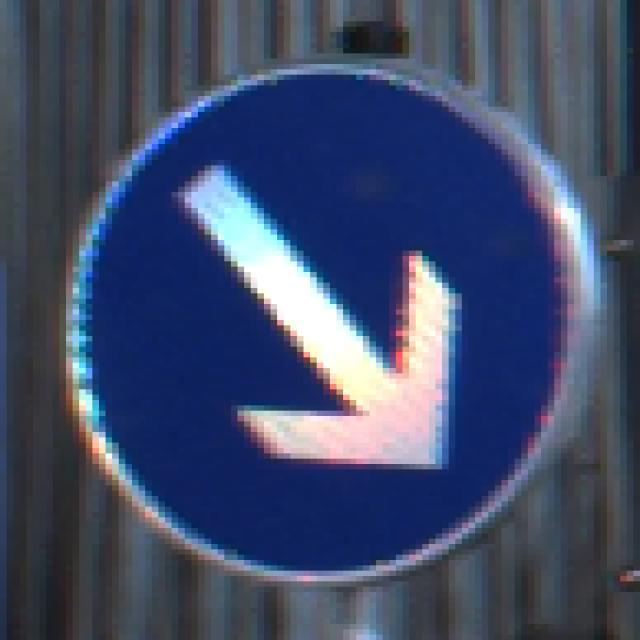compulsary keep right: (55, 54, 605, 602)
